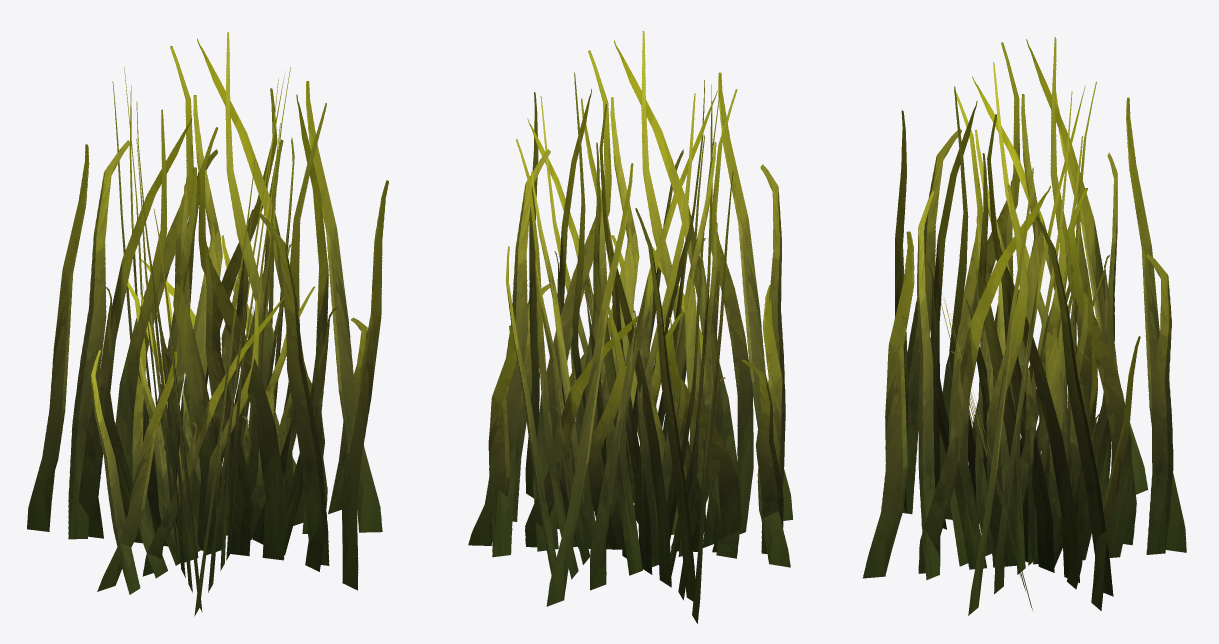
The model's file is grass-tall.fbx.
The picture shows the model from 3 angles, left to right: view 1: azimuth 30°, elevation 25°; view 2: azimuth 150°, elevation 25°; view 3: azimuth 270°, elevation 25°; orthographic projection. The views are drawn at different scales.
Parts seen in each view (by area): view 1: HoB-grass-texture.005; view 2: HoB-grass-texture.005; view 3: HoB-grass-texture.005.
Boxes of the visible parts, left/top/right/bottom form: HoB-grass-texture.005: left=27, top=32, right=388, bottom=616; HoB-grass-texture.005: left=468, top=31, right=792, bottom=623; HoB-grass-texture.005: left=862, top=37, right=1186, bottom=615.
Size of the model in its own units: 183 by 261 by 174.
1 material, 1 textured.
